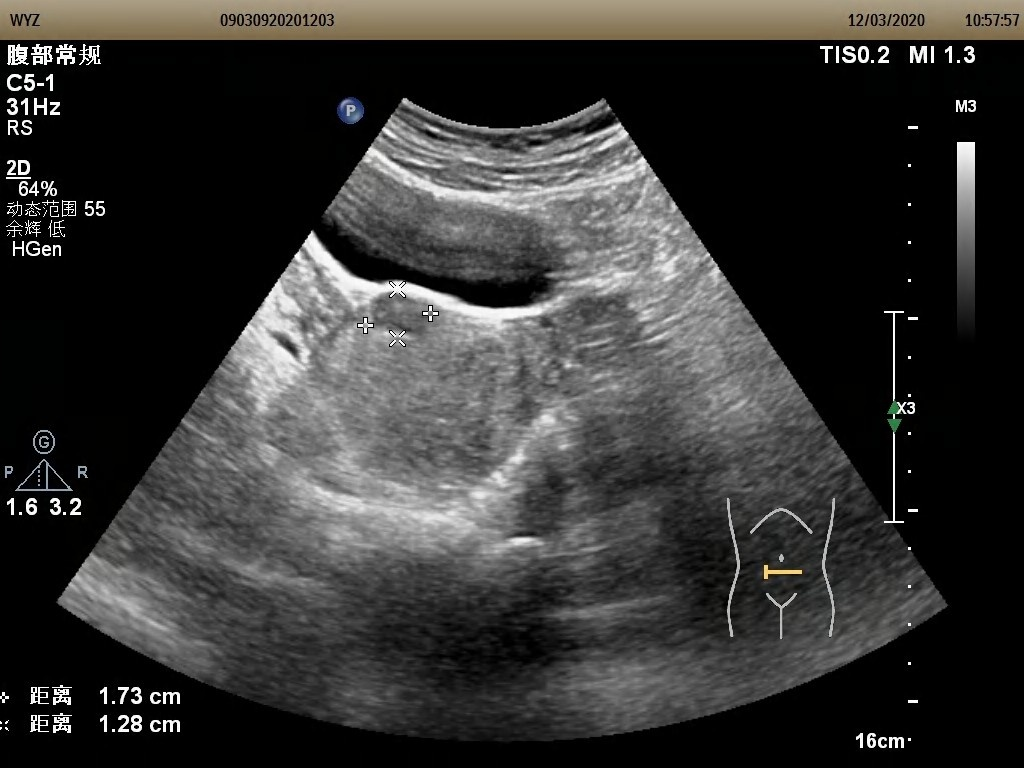肌瘤: (371, 289, 427, 336)
